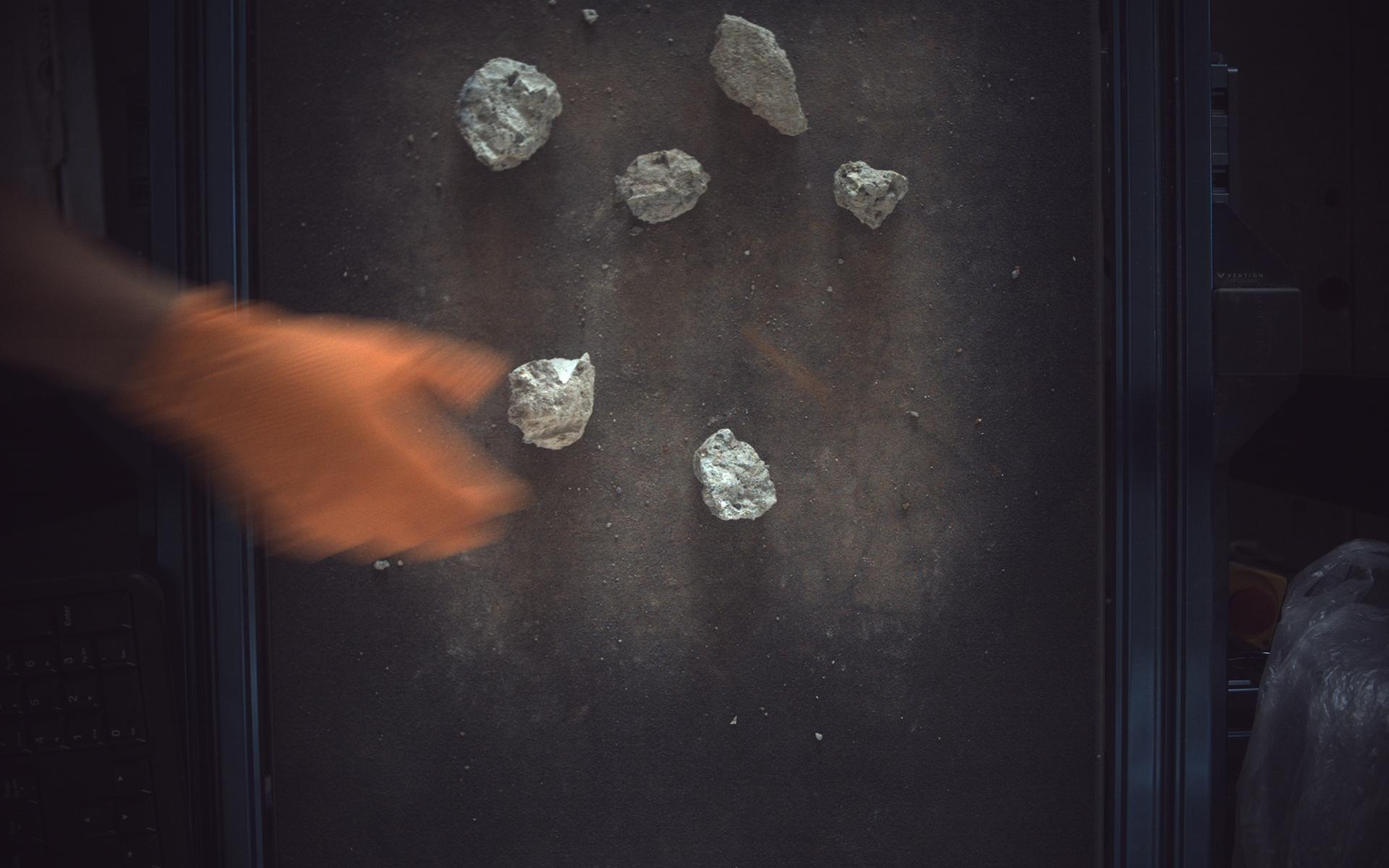concrete: (456, 56, 563, 170), (710, 13, 809, 135), (509, 353, 596, 450), (694, 428, 778, 521), (616, 148, 711, 223), (836, 160, 910, 229)
